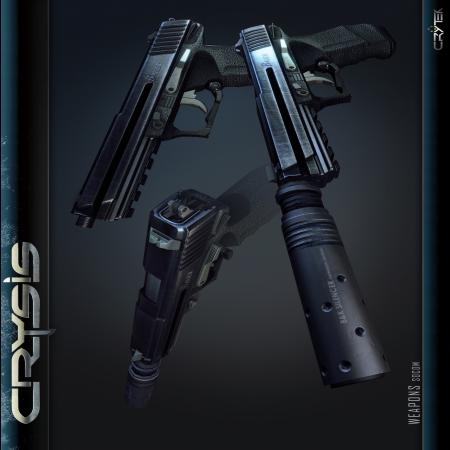Pistol: (66, 22, 255, 230), (128, 160, 282, 360), (233, 18, 393, 183)
